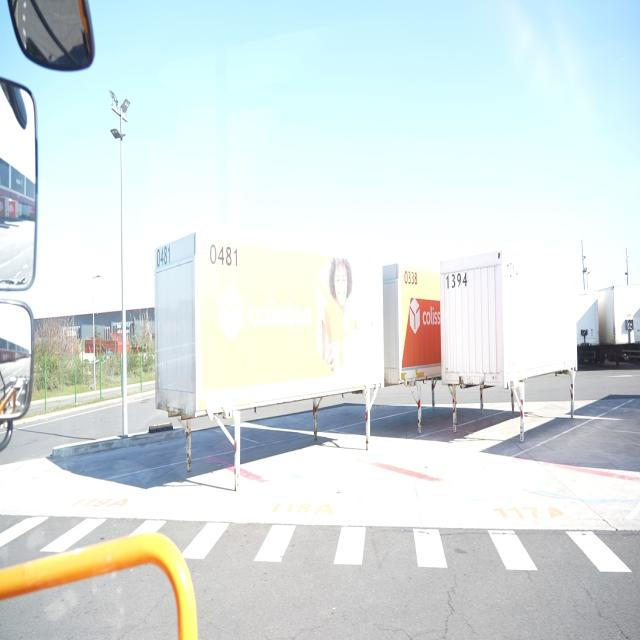Code: (208, 241, 238, 272), (445, 268, 468, 292), (155, 244, 176, 268), (402, 268, 418, 288)
